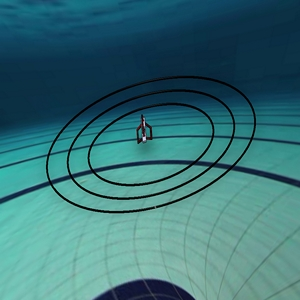circle: (22, 49, 275, 223)
submarine: (122, 108, 169, 153)
